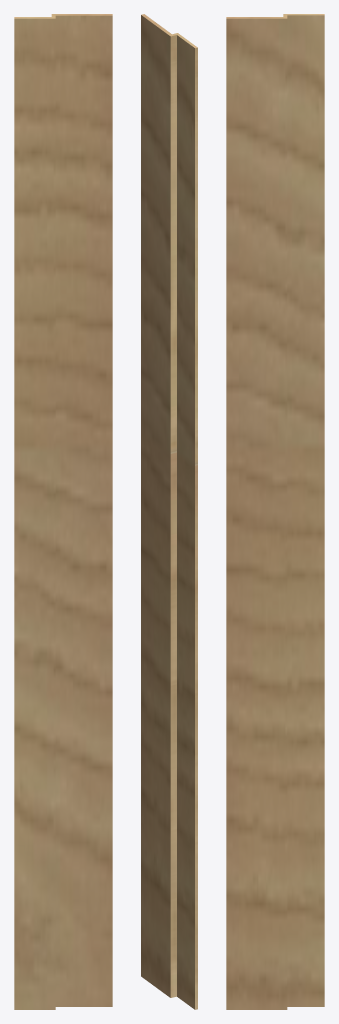
Rendered from original-2.obj.
3 renders of one model, left to right at view 1: azimuth 90°, elevation 25°; view 2: azimuth 210°, elevation 25°; view 3: azimuth 270°, elevation 25°, orthographic. The views are drawn at different scales.
Parts seen in each view (by area): view 1: Group2/mesh3/mesh3-geometry#mesh3-geometry; view 2: Group2/mesh3/mesh3-geometry#mesh3-geometry; view 3: Group2/mesh3/mesh3-geometry#mesh3-geometry.
Boxes of the visible parts, left/top/right/bottom form: Group2/mesh3/mesh3-geometry#mesh3-geometry: left=14, top=14, right=112, bottom=1009; Group2/mesh3/mesh3-geometry#mesh3-geometry: left=141, top=14, right=197, bottom=1009; Group2/mesh3/mesh3-geometry#mesh3-geometry: left=226, top=14, right=324, bottom=1009.
Bounding box in the file's own units: 0.0102 × 1.03 × 0.0931.
